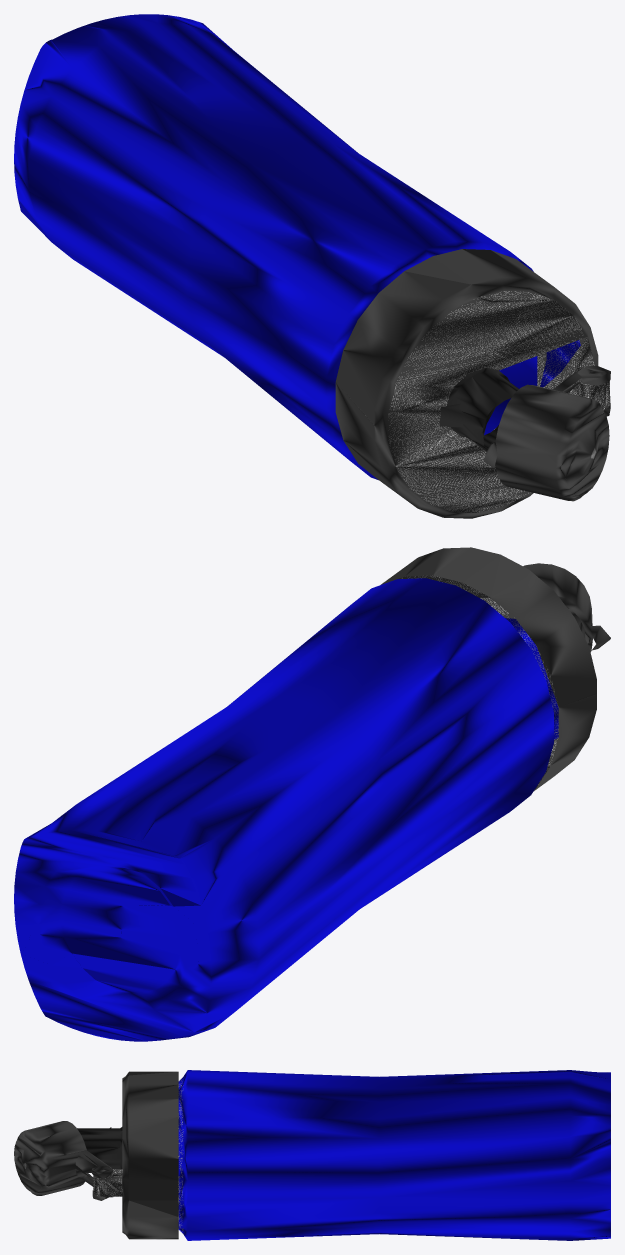
The model's file is model_align.obj.
3 views of the same model, one above another, from view 1: azimuth 30°, elevation 25°; view 2: azimuth 150°, elevation 25°; view 3: azimuth 270°, elevation 25° (orthographic). The views are drawn at different scales.
Bounding box in the file's own units: 0.0438 × 0.0438 × 0.154.
